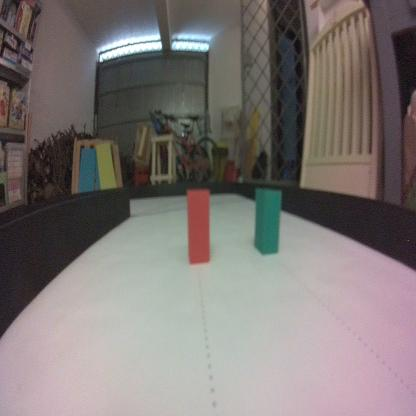green: (254, 187, 280, 256)
red: (186, 188, 212, 265)
